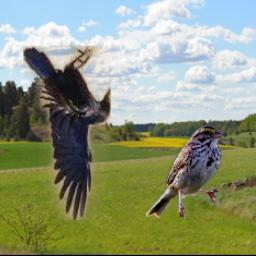Crow: (23, 46, 111, 220)
Sparrow: (146, 125, 225, 220)
